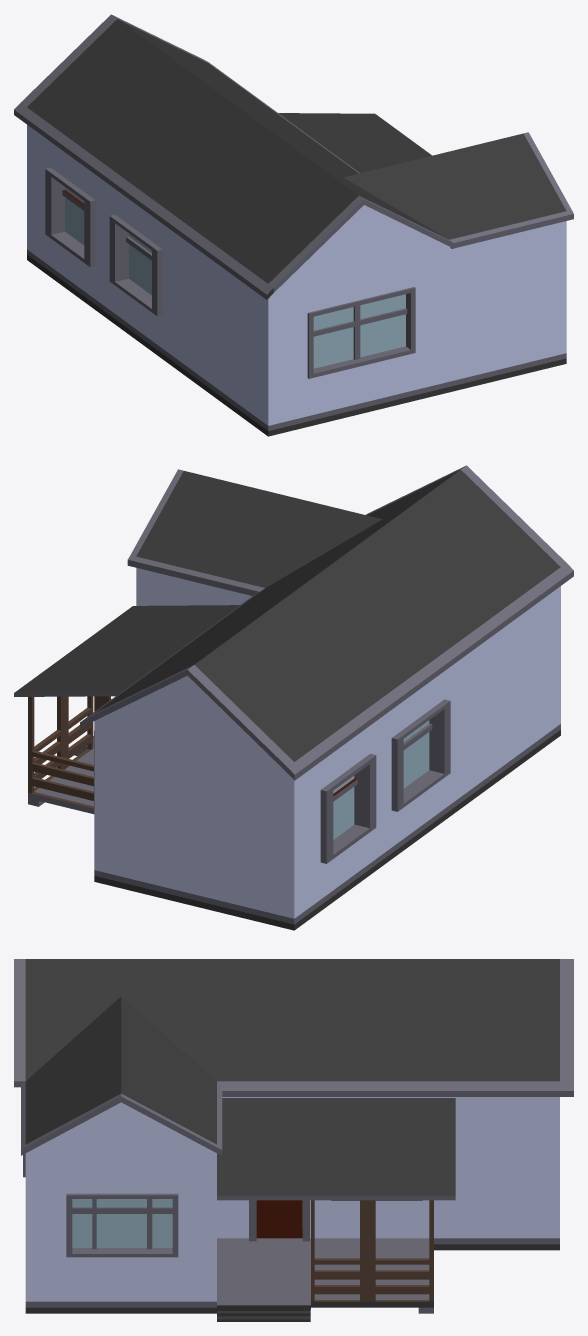
File: HOUSEE (2) 1.fbx
The picture shows the model from 3 angles, top to bottom: view 1: azimuth 30°, elevation 25°; view 2: azimuth 150°, elevation 25°; view 3: azimuth 270°, elevation 25°; orthographic projection. The views are drawn at different scales.
Visible parts, largest first — view 1: Cube.002; view 2: Cube.002; view 3: Cube.002.
Part boxes in pixels (x1,y1,x2,y2): Cube.002: (14,14,573,436); Cube.002: (14,465,573,930); Cube.002: (14,959,573,1321).
Size of the model in its own units: 947 by 617 by 1292.
